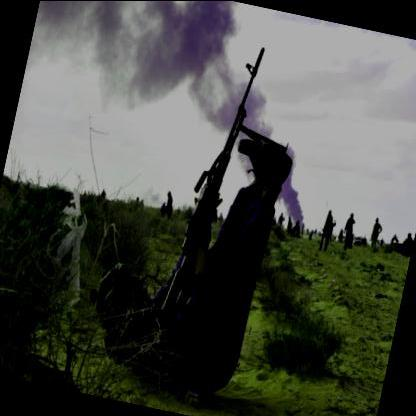rifle: (159, 38, 256, 320)
